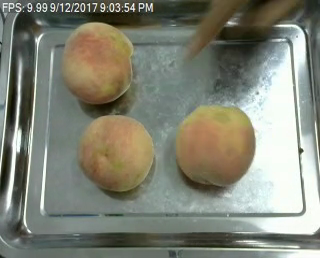Peach: (176, 105, 256, 187), (76, 113, 155, 191), (60, 21, 134, 103)
